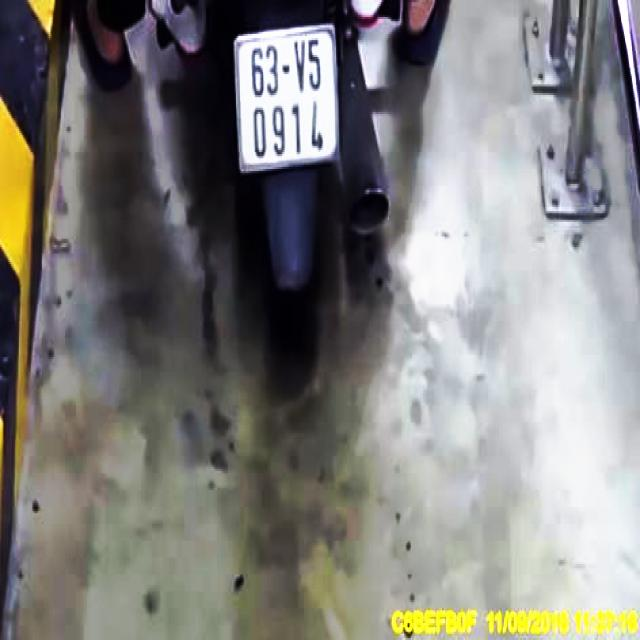license_plate: (240, 32, 338, 167)
